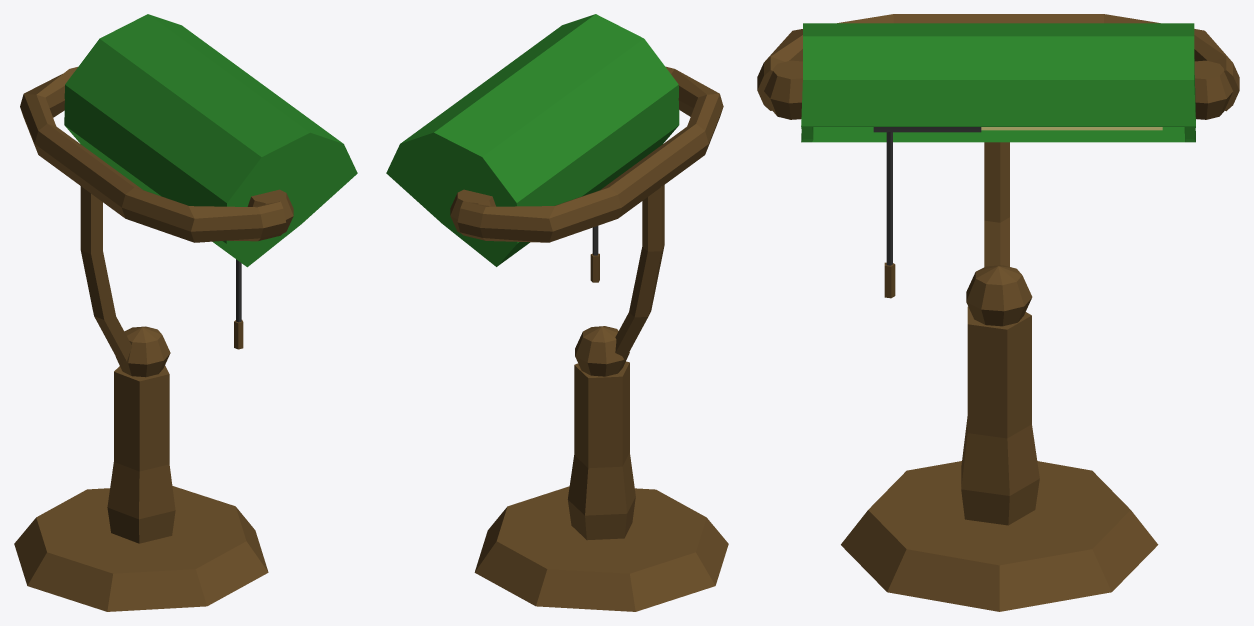
The model's file is Banker_sLamp.fbx.
3 views of the same model, side by side, from view 1: azimuth 30°, elevation 25°; view 2: azimuth 150°, elevation 25°; view 3: azimuth 270°, elevation 25° (orthographic). The views are drawn at different scales.
Parts seen in each view (by area): view 1: Cylinder.003, Cylinder, Cylinder.004, Cylinder.001, Cylinder.002, Sphere, Sphere.002; view 2: Cylinder.003, Cylinder, Cylinder.004, Cylinder.001, Cylinder.002, Sphere, Sphere.001; view 3: Cylinder.003, Cylinder, Cylinder.001, Cylinder.004, Cylinder.002, Sphere, Sphere.002, Sphere.001, Cylinder.008, Cylinder.005, Cylinder.006.
Boxes of the visible parts, <box> form: Cylinder.003: <box>64,14,357,267</box>; Cylinder: <box>14,486,268,611</box>; Cylinder.004: <box>20,67,286,242</box>; Cylinder.001: <box>107,365,175,543</box>; Cylinder.002: <box>80,185,132,366</box>; Sphere: <box>115,326,170,377</box>; Sphere.002: <box>247,189,293,233</box>; Cylinder.003: <box>386,14,679,266</box>; Cylinder: <box>474,486,728,611</box>; Cylinder.004: <box>457,66,723,242</box>; Cylinder.001: <box>567,361,635,540</box>; Cylinder.002: <box>615,185,664,366</box>; Sphere: <box>575,326,629,376</box>; Sphere.001: <box>450,189,495,233</box>; Cylinder.003: <box>801,23,1195,142</box>; Cylinder: <box>841,461,1158,611</box>; Cylinder.001: <box>961,307,1039,525</box>; Cylinder.004: <box>757,14,1239,111</box>; Cylinder.002: <box>984,142,1009,266</box>; Sphere: <box>966,265,1032,326</box>; Sphere.002: <box>764,60,802,119</box>; Sphere.001: <box>1194,60,1232,119</box>; Cylinder.008: <box>886,132,892,265</box>; Cylinder.005: <box>981,127,1162,130</box>; Cylinder.006: <box>873,127,981,132</box>.
Bounding box in the file's own units: 194 × 346 × 271.
